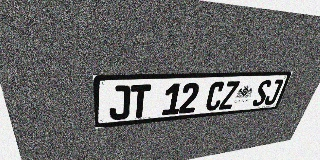1: (162, 83, 183, 115)
2: (179, 82, 200, 114)
C: (204, 81, 226, 111)
J: (109, 85, 130, 121), (263, 79, 284, 105)
S: (251, 80, 273, 107)
T: (130, 84, 151, 119)
Z: (218, 81, 240, 110)
